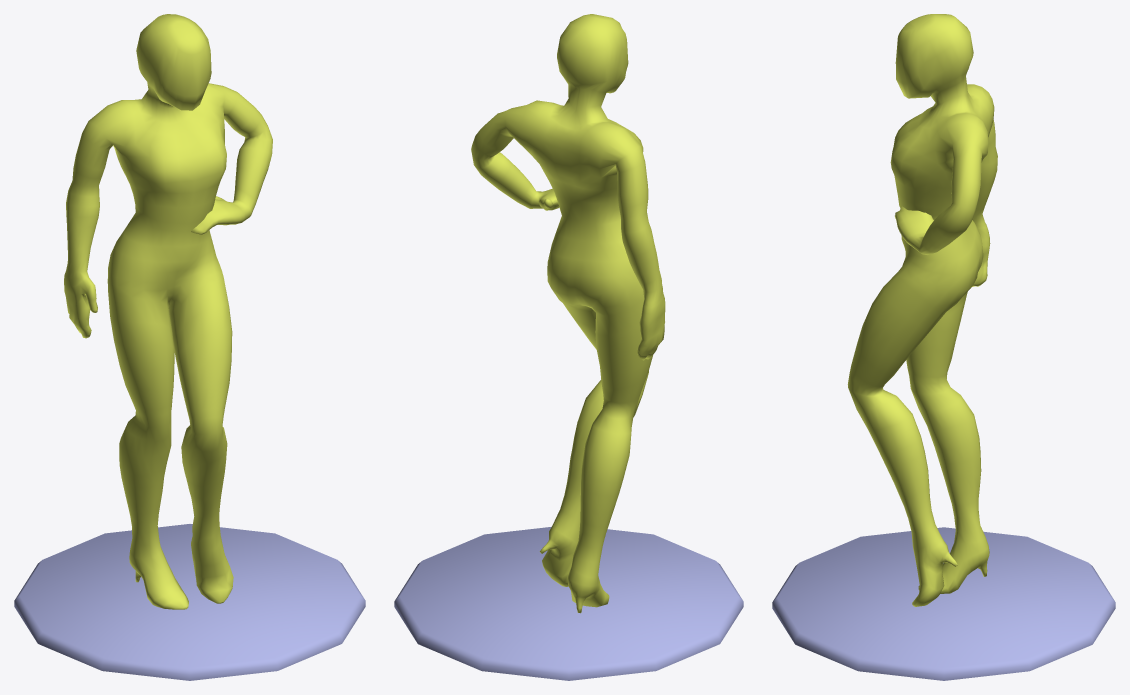
File: mannequin_4.fbx
3 renders of one model, left to right at view 1: azimuth 30°, elevation 25°; view 2: azimuth 150°, elevation 25°; view 3: azimuth 270°, elevation 25°, orthographic. The views are drawn at different scales.
Visible parts, largest first — view 1: mannequin_4; view 2: mannequin_4; view 3: mannequin_4.
Part boxes in pixels (box(x1,y1,x2,y2)): mannequin_4: box(14, 14, 365, 680); mannequin_4: box(394, 14, 743, 680); mannequin_4: box(772, 14, 1115, 680).
Size of the model in its own units: 6.73 by 12.59 by 6.73.
